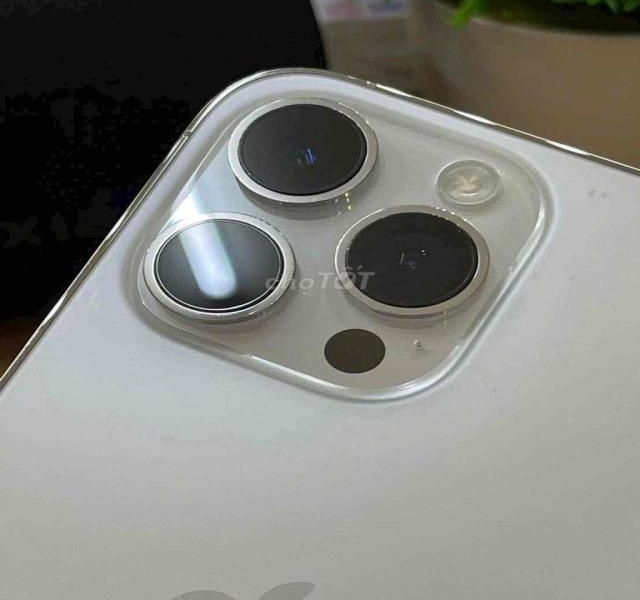scratch: (557, 169, 632, 227)
